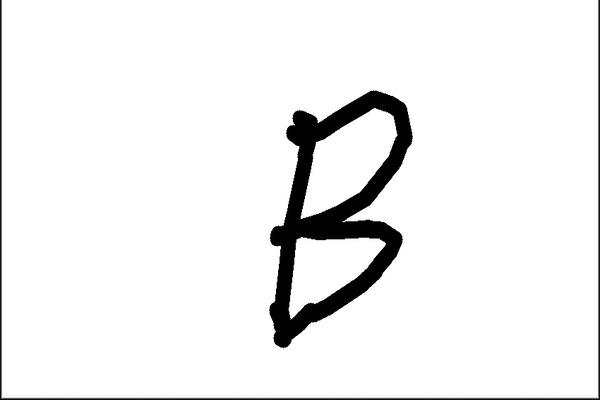B: (258, 82, 421, 354)
